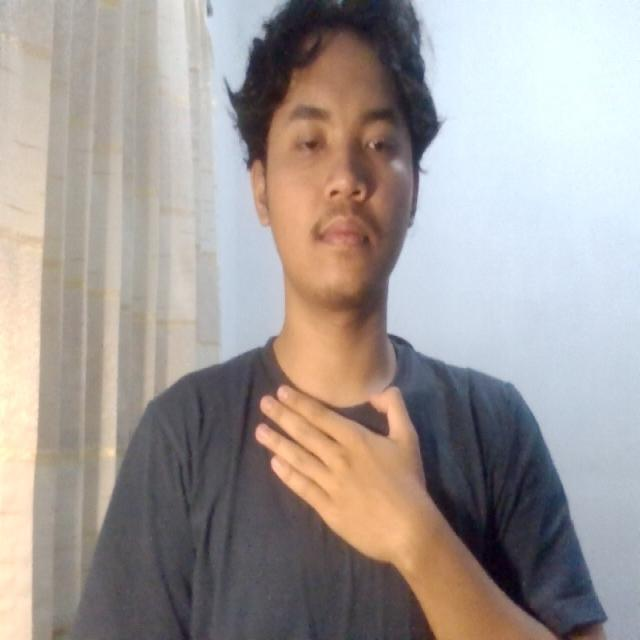Nama: (234, 360, 440, 573)
